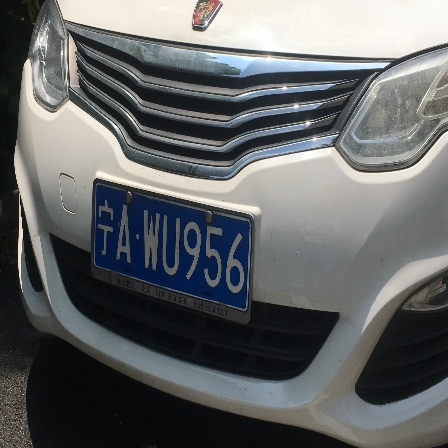plate: (90, 174, 255, 317)
